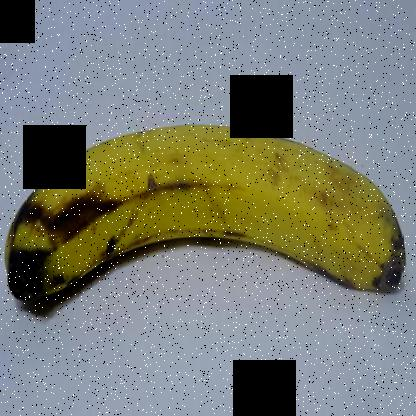ripe: (9, 112, 415, 302)
